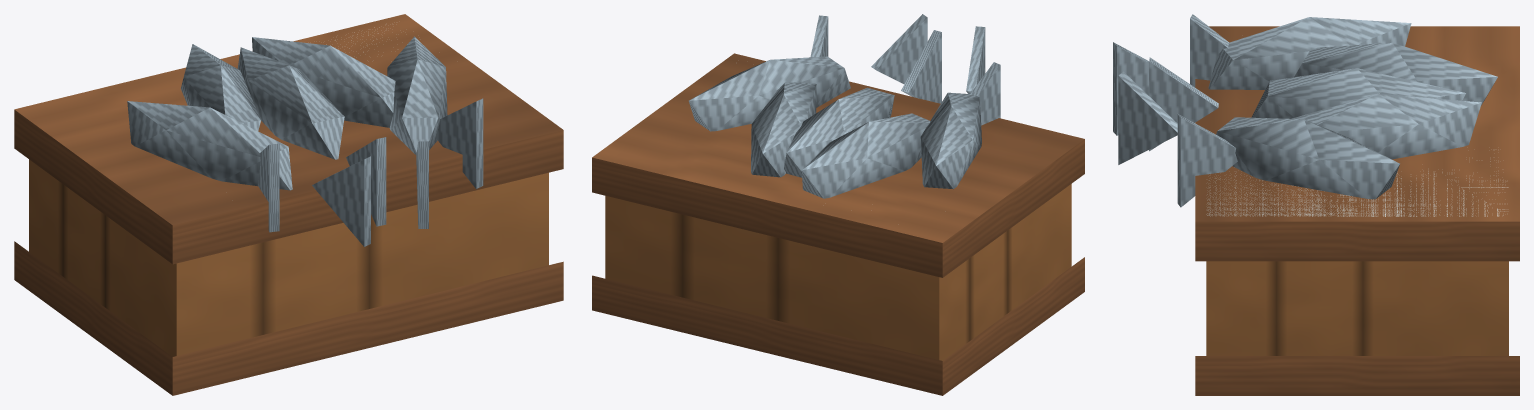
The model's file is prop_fish_crate_01.glb.
3 views of the same model, side by side, from view 1: azimuth 30°, elevation 25°; view 2: azimuth 150°, elevation 25°; view 3: azimuth 270°, elevation 25° (orthographic). The views are drawn at different scales.
Visible parts, largest first — view 1: prop_fish_crate_01; view 2: prop_fish_crate_01; view 3: prop_fish_crate_01.
Part boxes in pixels (x1,y1,x2,y2): prop_fish_crate_01: [14, 14, 563, 395]; prop_fish_crate_01: [592, 14, 1084, 395]; prop_fish_crate_01: [1113, 14, 1519, 395].
Bounding box in the file's own units: 0.84 × 0.47 × 0.7396.
1 material, 1 textured.
